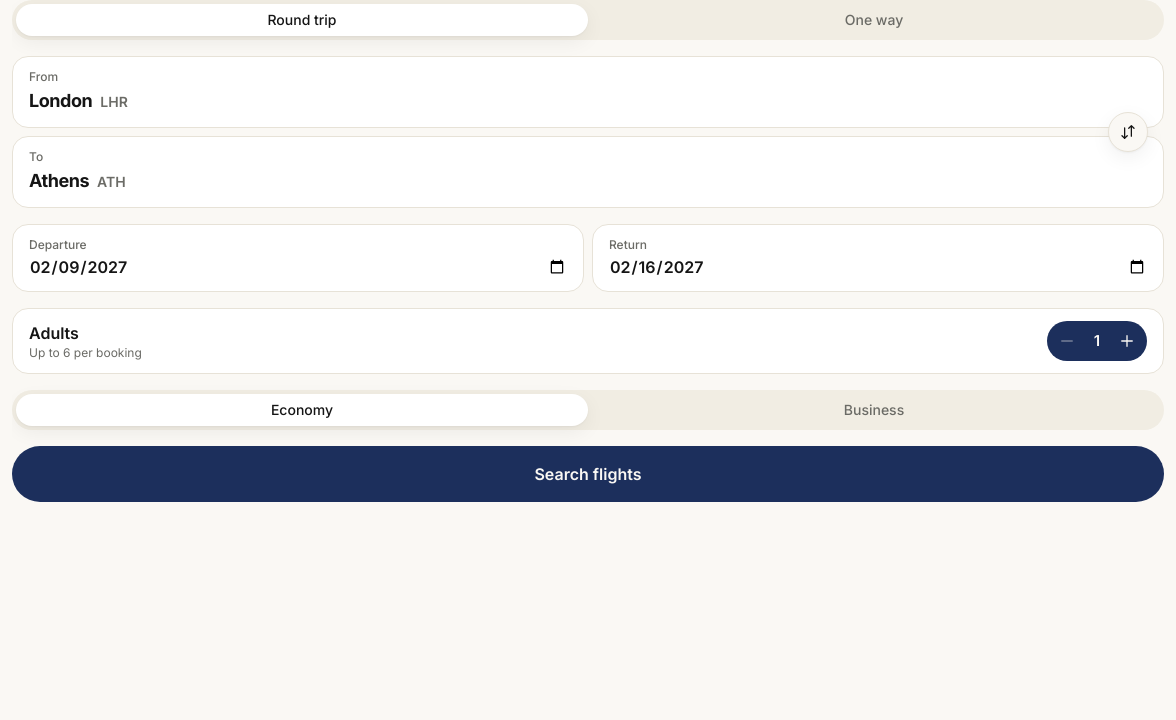
Test: SearchForm › shows an error for a return date before the departure date
Type "2027-02-01" into the date field labelled "Return". click: (878, 267)
box: [609,255,1147,279]
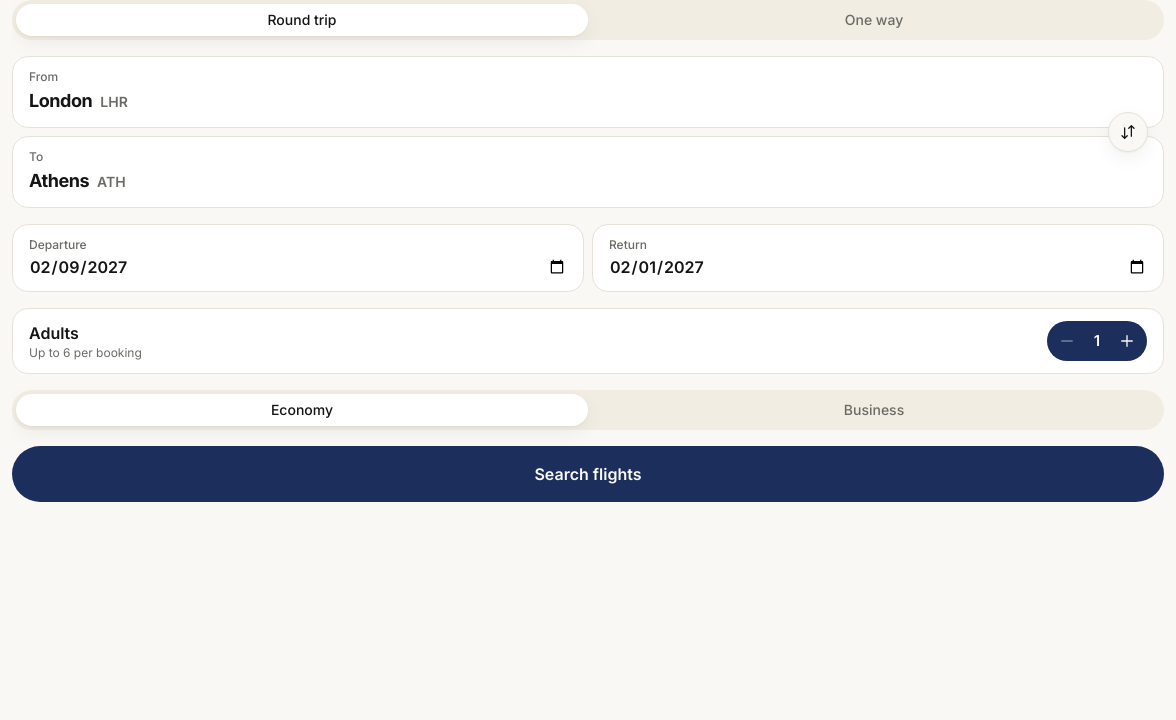
Click the button "Search flights". click: click(588, 474)
box: [12,446,1164,502]
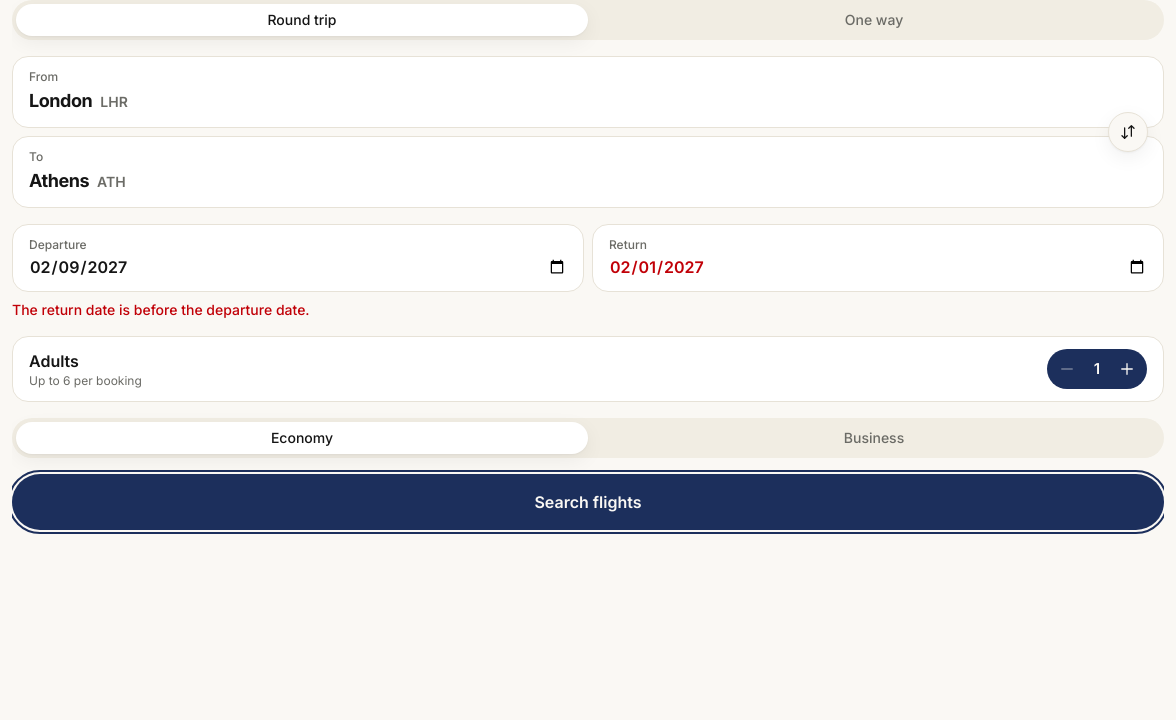
Now the message shows "before the departure", box [12,301,310,318]
